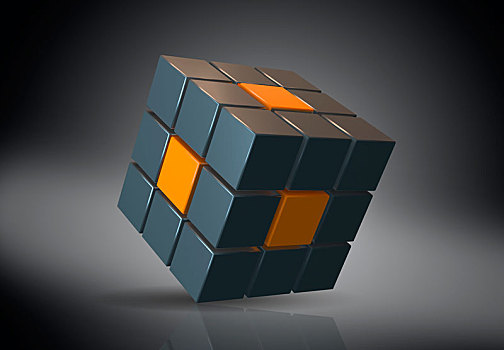cube: (113, 55, 397, 305)
